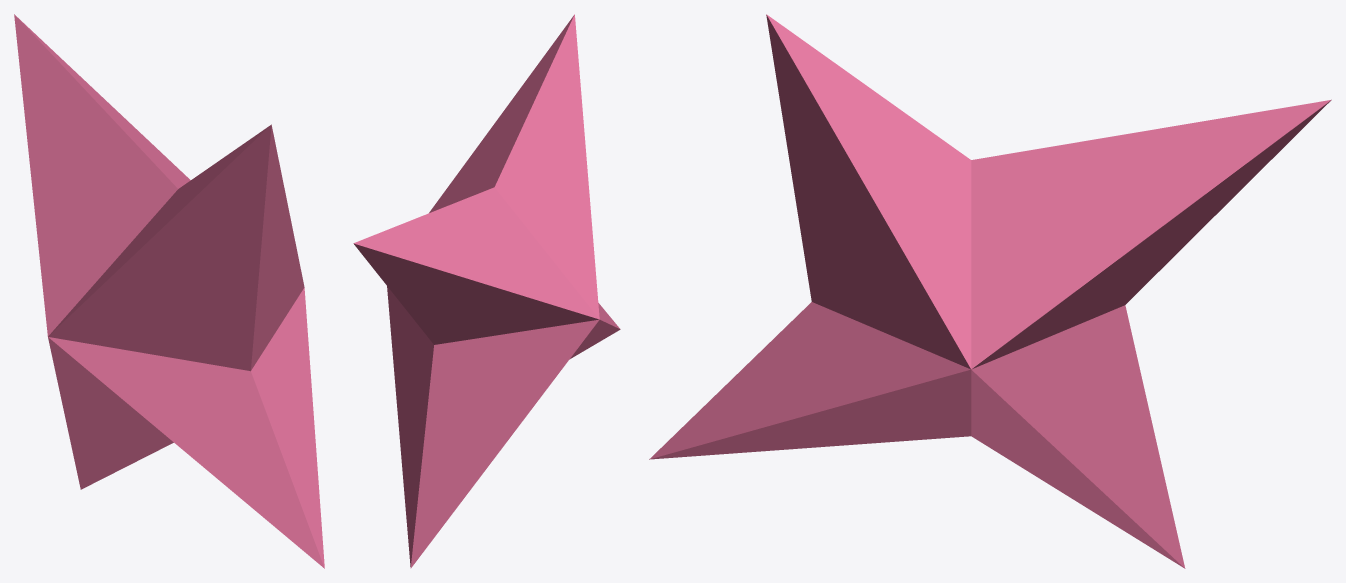
File: StarDroplet_Ver2.fbx
3 views of the same model, side by side, from view 1: azimuth 30°, elevation 25°; view 2: azimuth 150°, elevation 25°; view 3: azimuth 270°, elevation 25° (orthographic). The views are drawn at different scales.
Parts seen in each view (by area): view 1: StarDropletVer2; view 2: StarDropletVer2; view 3: StarDropletVer2.
Boxes of the visible parts, box(x1,y1,x2,y2) form: StarDropletVer2: box(14, 14, 324, 568); StarDropletVer2: box(353, 14, 620, 568); StarDropletVer2: box(649, 14, 1331, 568).
Size of the model in its own units: 136 by 260 by 290.
